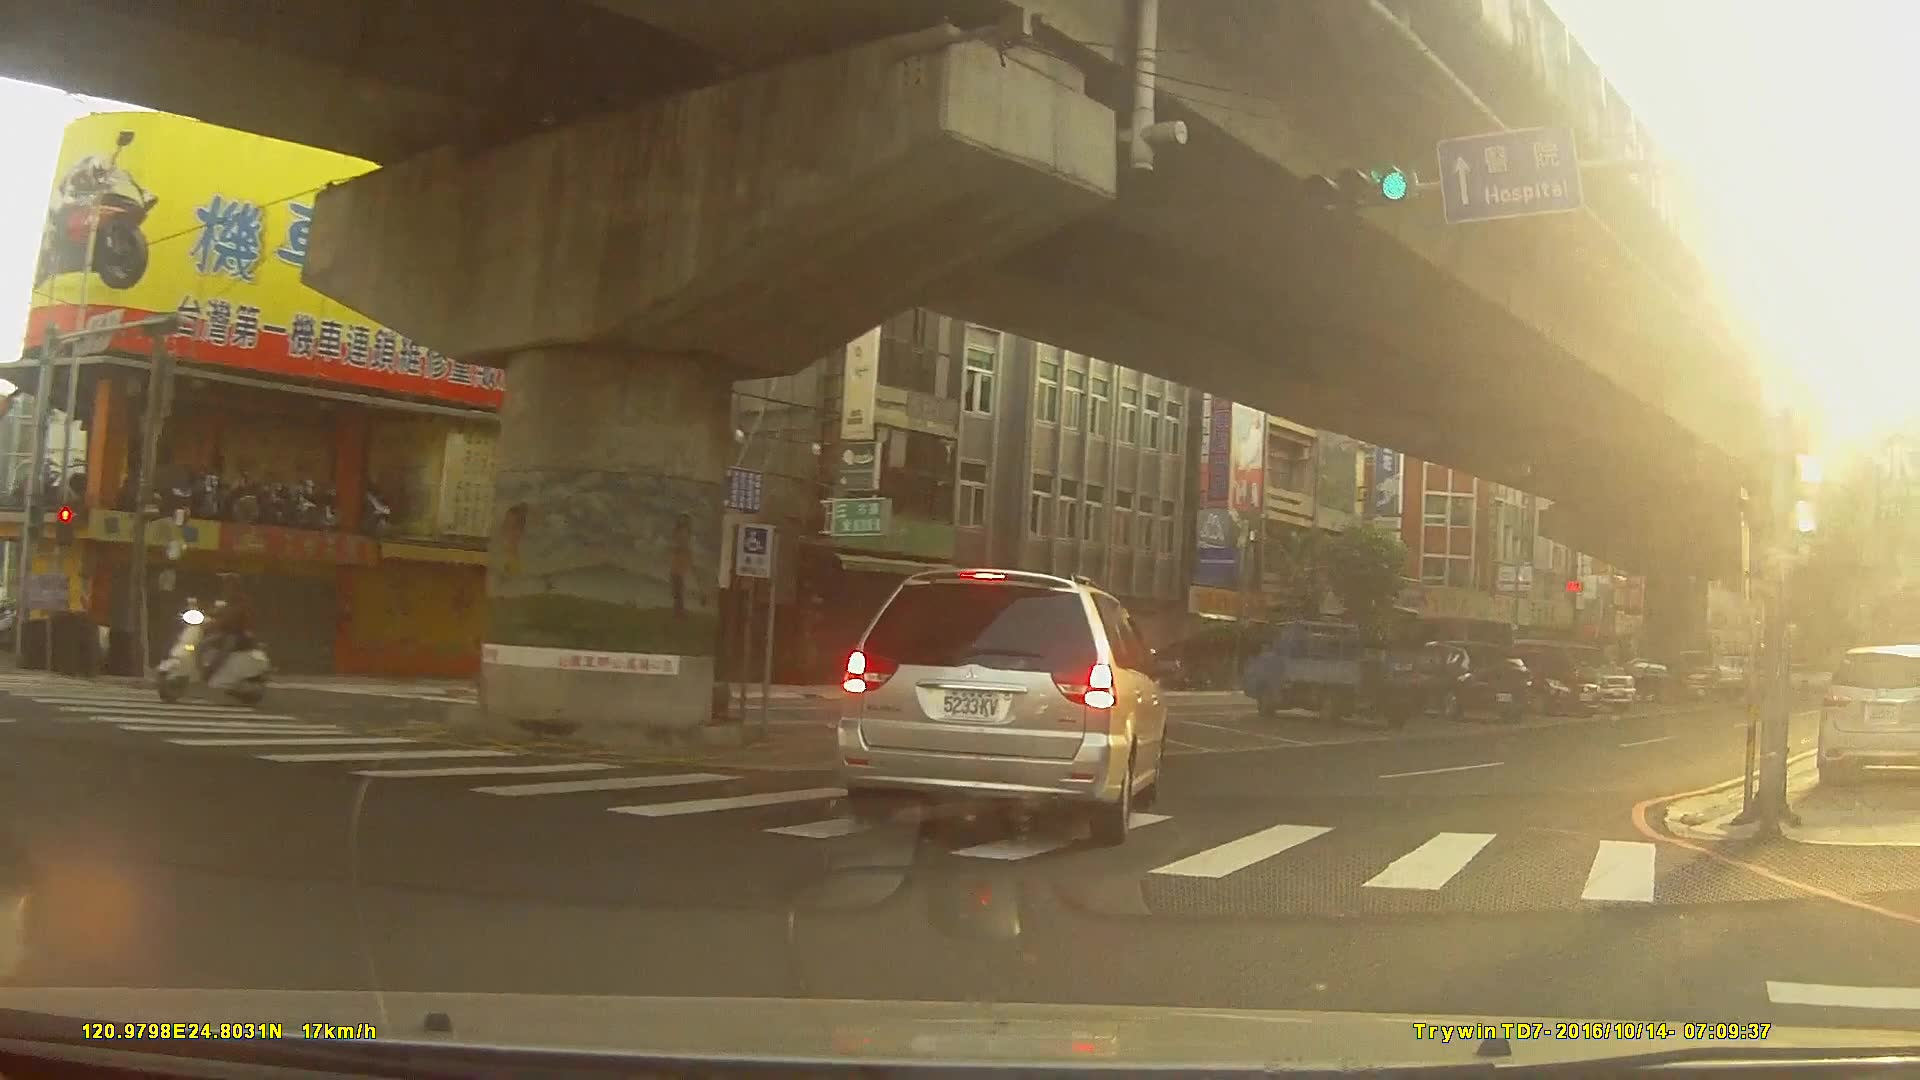rider: (158, 570, 278, 706)
vehicle: (833, 564, 1169, 846), (1237, 616, 1445, 727), (1816, 639, 1920, 785), (1397, 635, 1534, 719), (1479, 647, 1605, 716), (1602, 657, 1686, 702)
